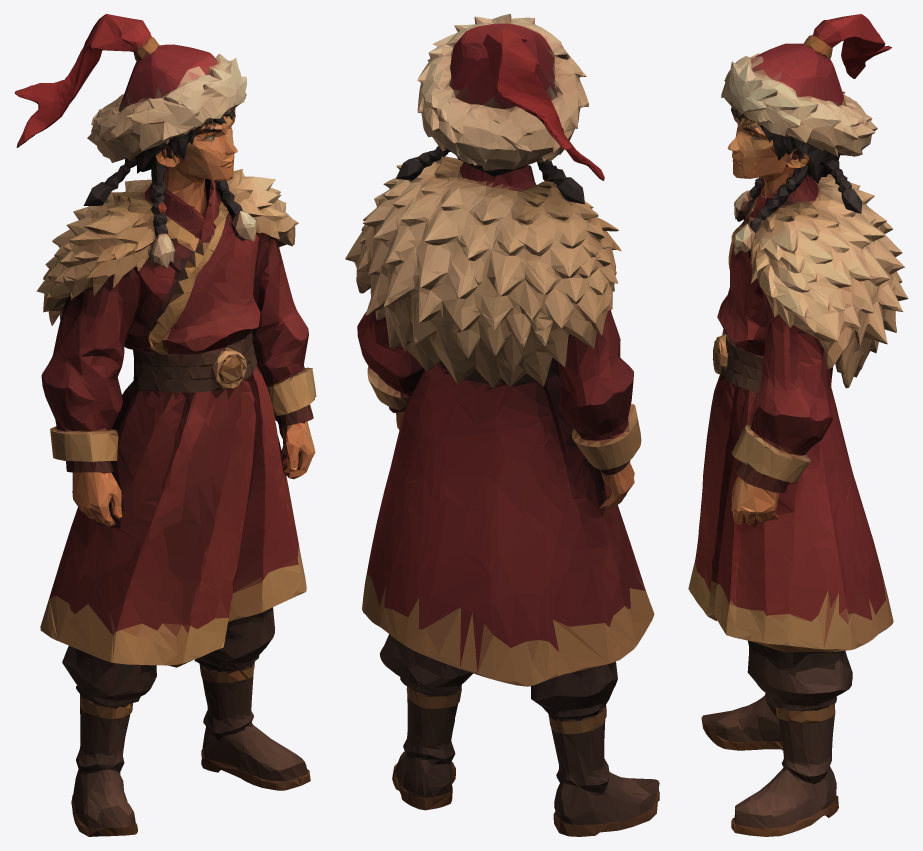
File: fig_tem_npc.glb
3 renders of one model, left to right at view 1: azimuth 30°, elevation 25°; view 2: azimuth 150°, elevation 25°; view 3: azimuth 270°, elevation 25°, orthographic. The views are drawn at different scales.
Parts seen in each view (by area): view 1: fig; view 2: fig; view 3: fig.
Boxes of the visible parts, left/top/right/bottom form: fig: left=14, top=14, right=316, bottom=836; fig: left=345, top=14, right=659, bottom=836; fig: left=688, top=14, right=908, bottom=836.
Size of the model in its own units: 0.6751 by 1.9 by 0.5035.
